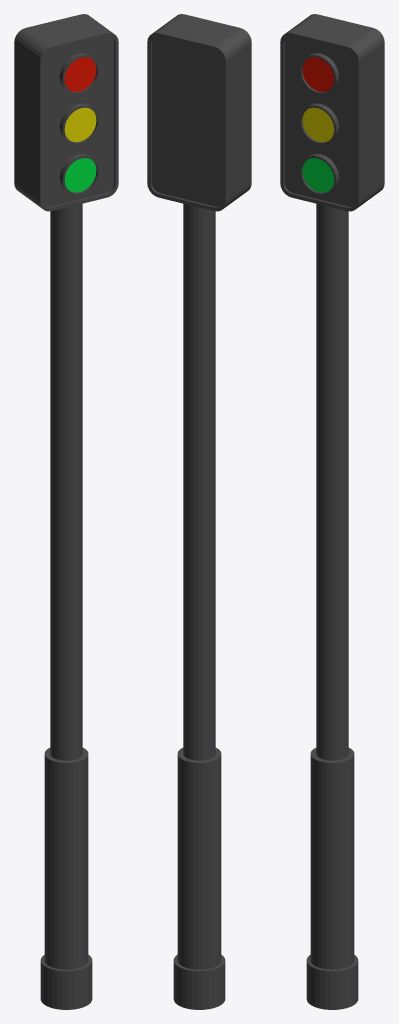
Rendered from TrafficLight.fbx.
3 views of the same model, side by side, from view 1: azimuth 30°, elevation 25°; view 2: azimuth 150°, elevation 25°; view 3: azimuth 330°, elevation 25° (orthographic).
Parts seen in each view (by area): view 1: TrafficLight; view 2: TrafficLight; view 3: TrafficLight.
Boxes of the visible parts, left/top/right/bottom form: TrafficLight: left=14, top=14, right=118, bottom=1009; TrafficLight: left=147, top=14, right=251, bottom=1009; TrafficLight: left=280, top=14, right=384, bottom=1009.
Bounding box in the file's own units: 35 × 412 × 21.44.
